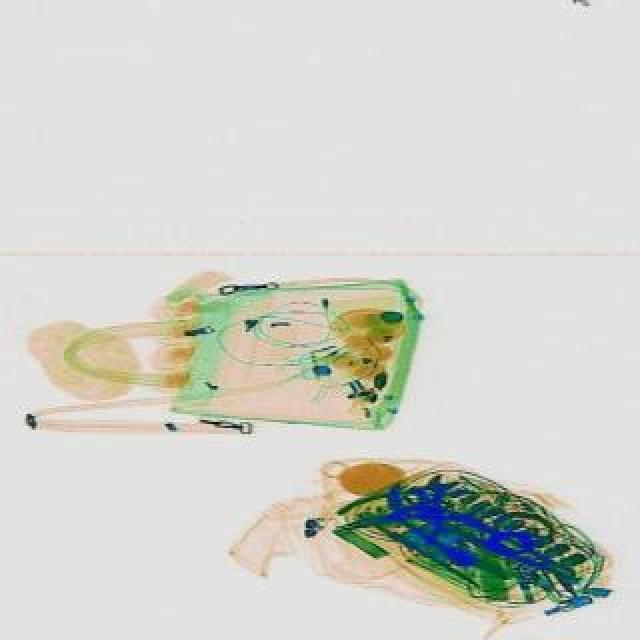wrench: (332, 440, 476, 572), (328, 484, 474, 544)
